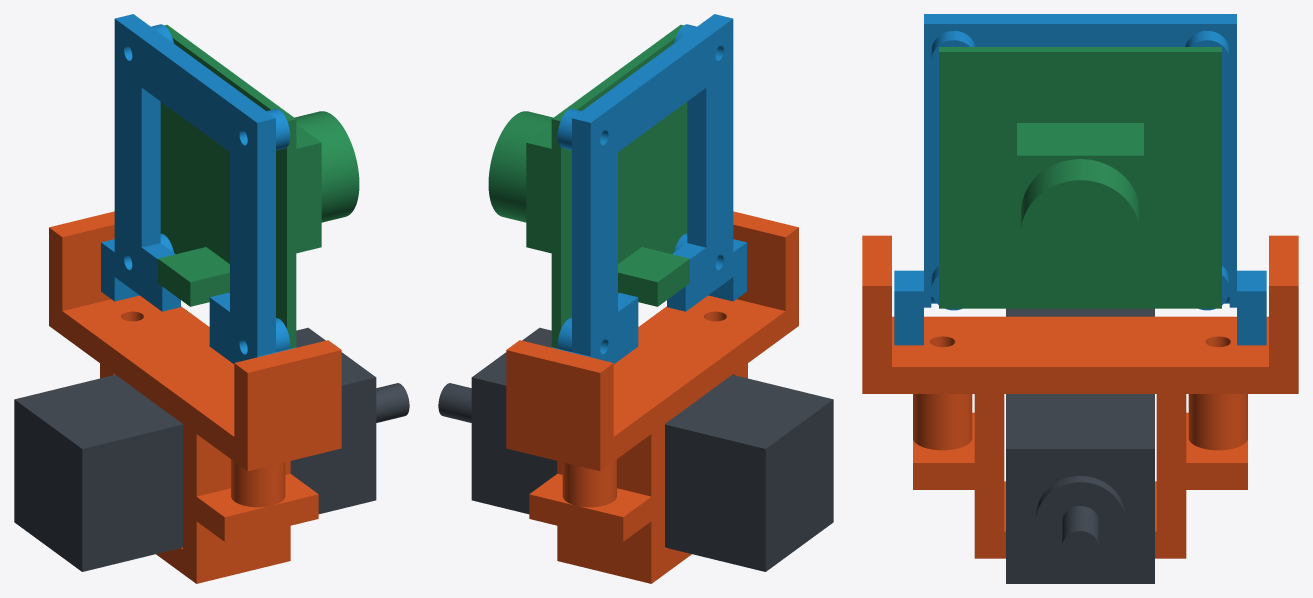
Rendered from dummy_joint6_camera_mount_assembly.glb.
The picture shows the model from 3 angles, left to right: view 1: azimuth 30°, elevation 25°; view 2: azimuth 150°, elevation 25°; view 3: azimuth 270°, elevation 25°; orthographic projection. The views are drawn at different scales.
Visible parts, largest first — view 1: clamp_top, motor_reference, camera_frame, camera_reference, clamp_bottom; view 2: clamp_top, motor_reference, camera_frame, camera_reference, clamp_bottom; view 3: camera_reference, clamp_top, motor_reference, camera_frame, clamp_bottom.
Part boxes in pixels (x1,y1,x2,y2): clamp_top: [49, 211, 341, 507]; motor_reference: [14, 327, 409, 571]; camera_frame: [101, 14, 296, 363]; camera_reference: [158, 24, 359, 348]; clamp_bottom: [156, 473, 318, 583]; clamp_top: [506, 211, 798, 507]; motor_reference: [438, 327, 833, 571]; camera_frame: [551, 14, 746, 363]; camera_reference: [488, 24, 689, 348]; clamp_bottom: [529, 473, 691, 583]; camera_reference: [939, 47, 1221, 308]; clamp_top: [862, 235, 1298, 462]; motor_reference: [1006, 308, 1154, 583]; camera_frame: [894, 14, 1266, 345]; clamp_bottom: [913, 412, 1247, 558].
Bounding box in the file's own units: 60 × 76.2 × 58.6.
